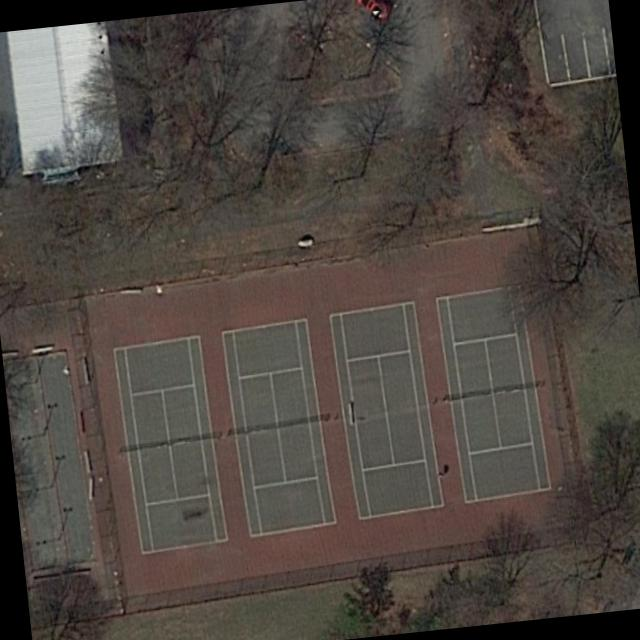small-vehicle: (358, 0, 392, 23)
